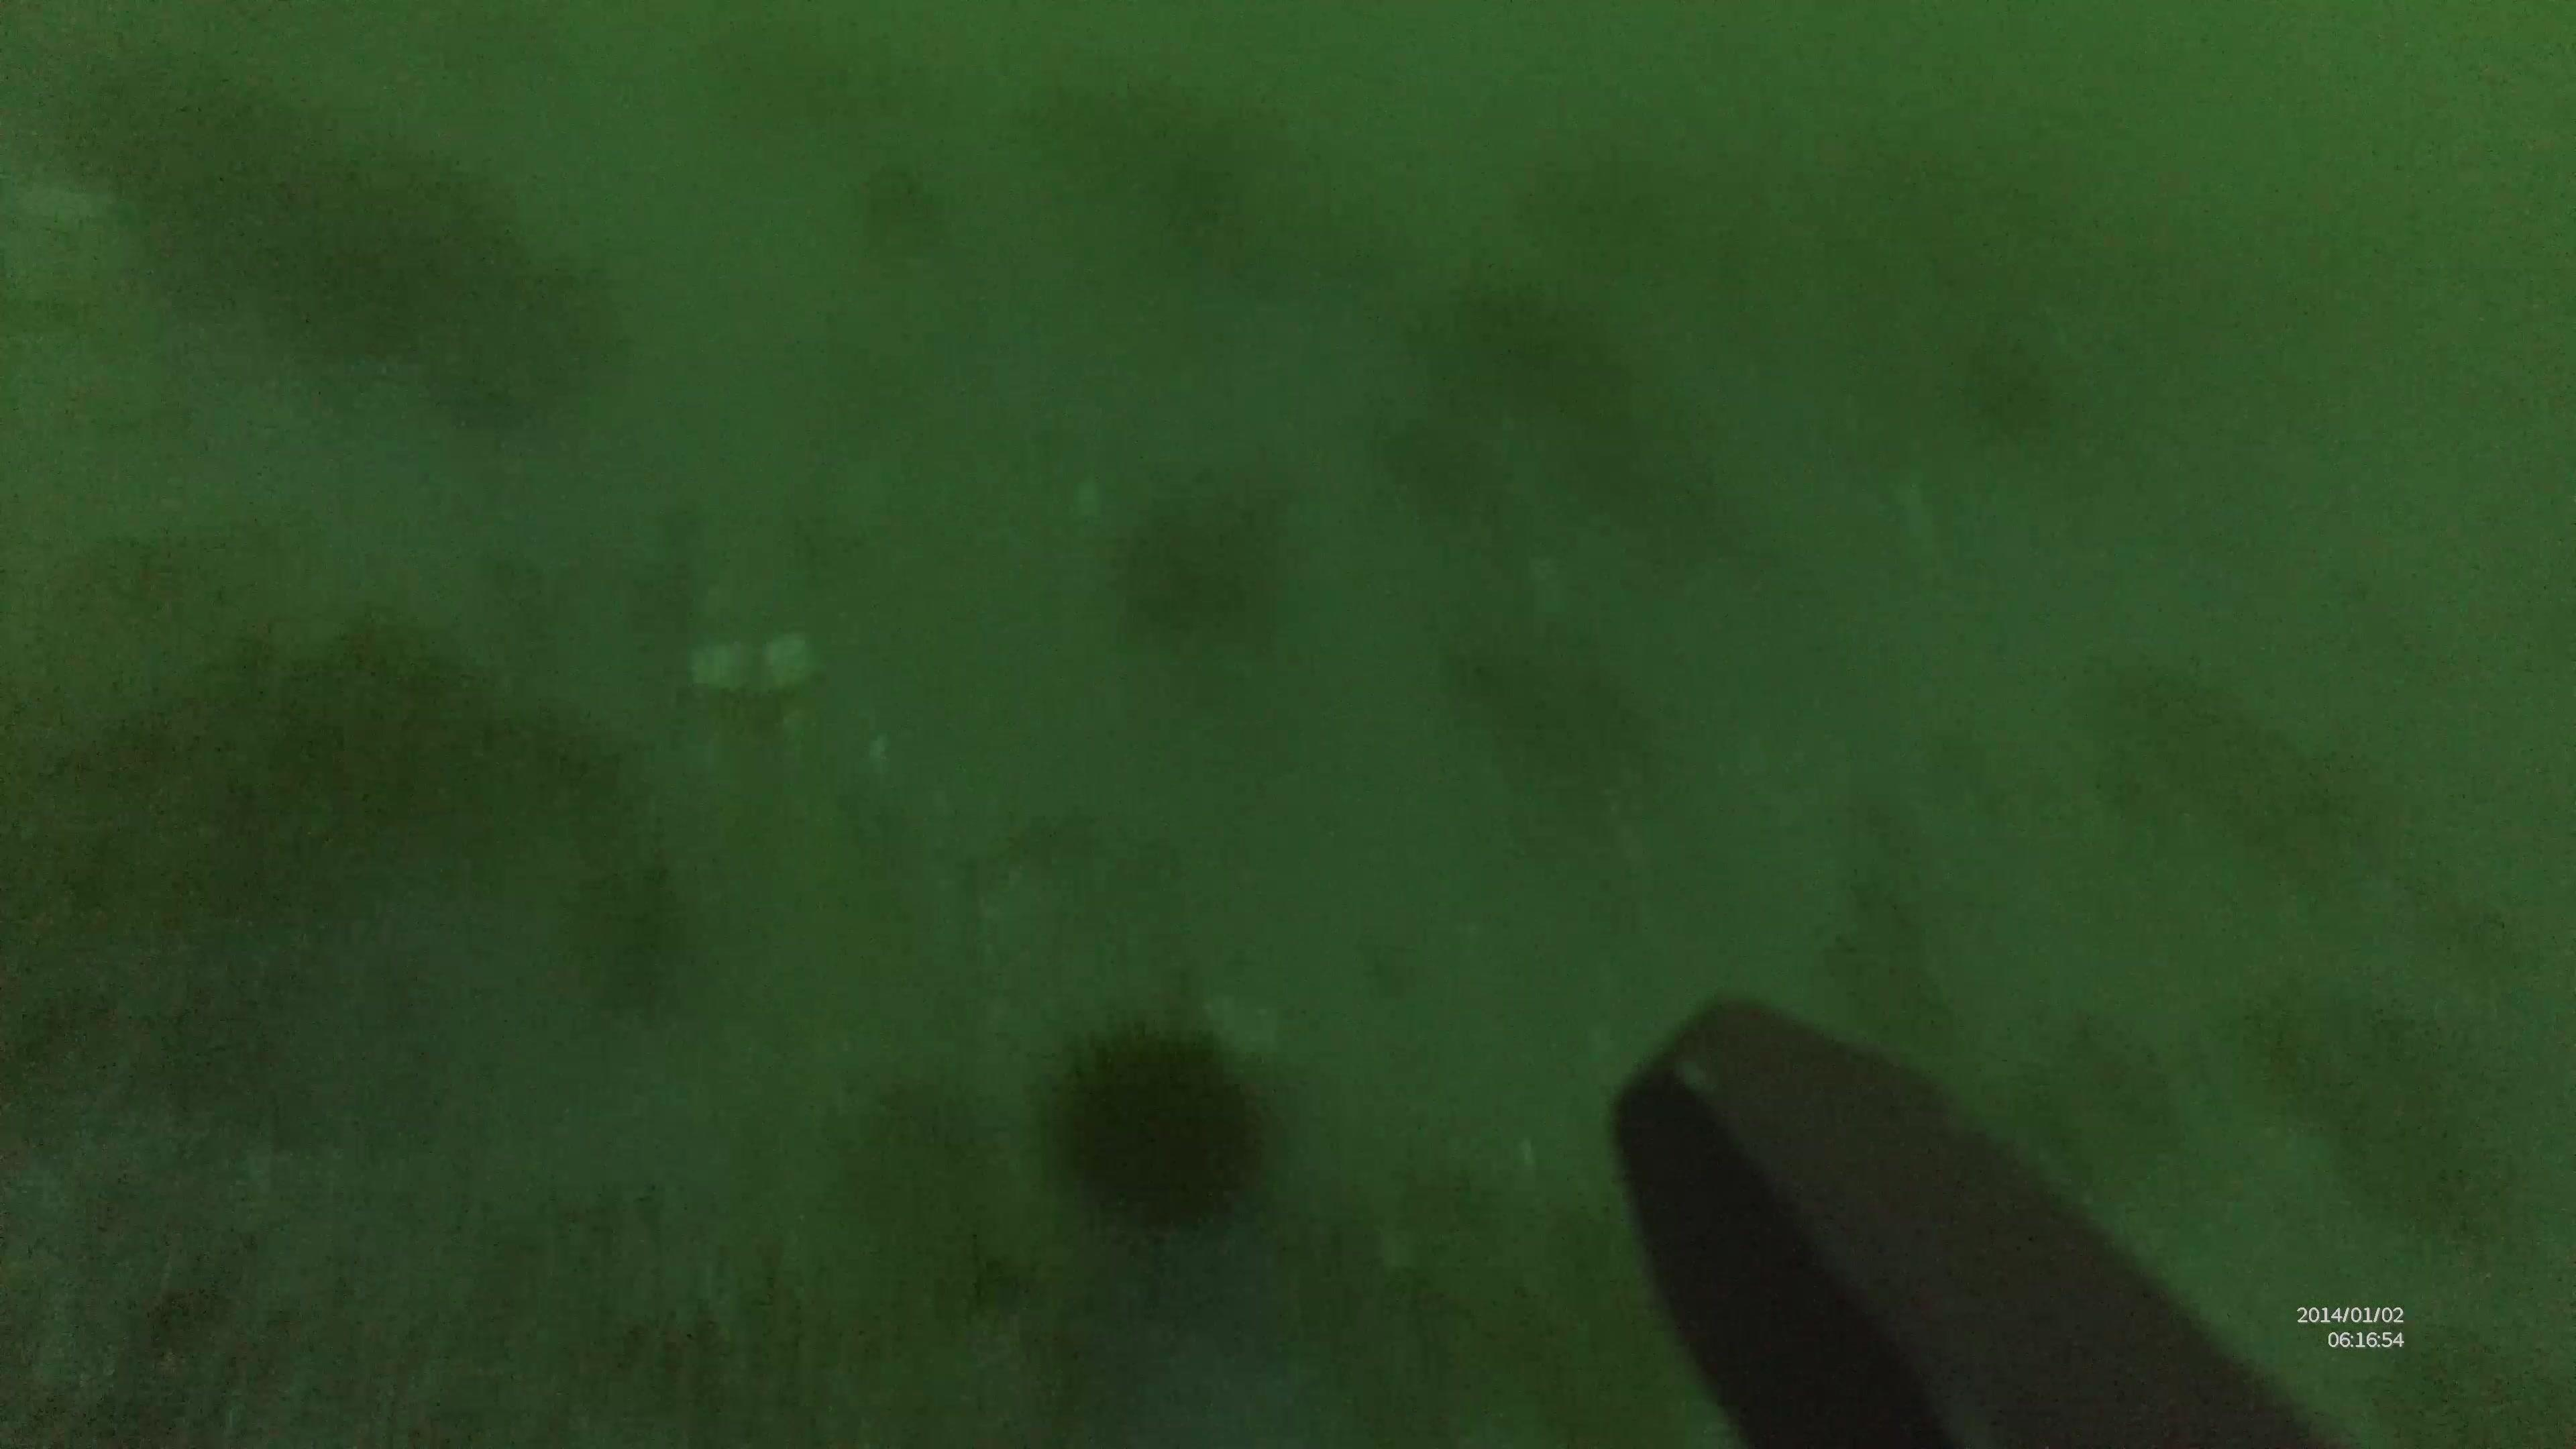echinus: (1014, 1019, 1267, 1214)
